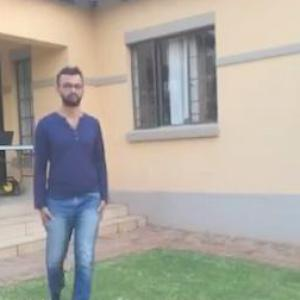follow: (36, 74, 113, 299)
